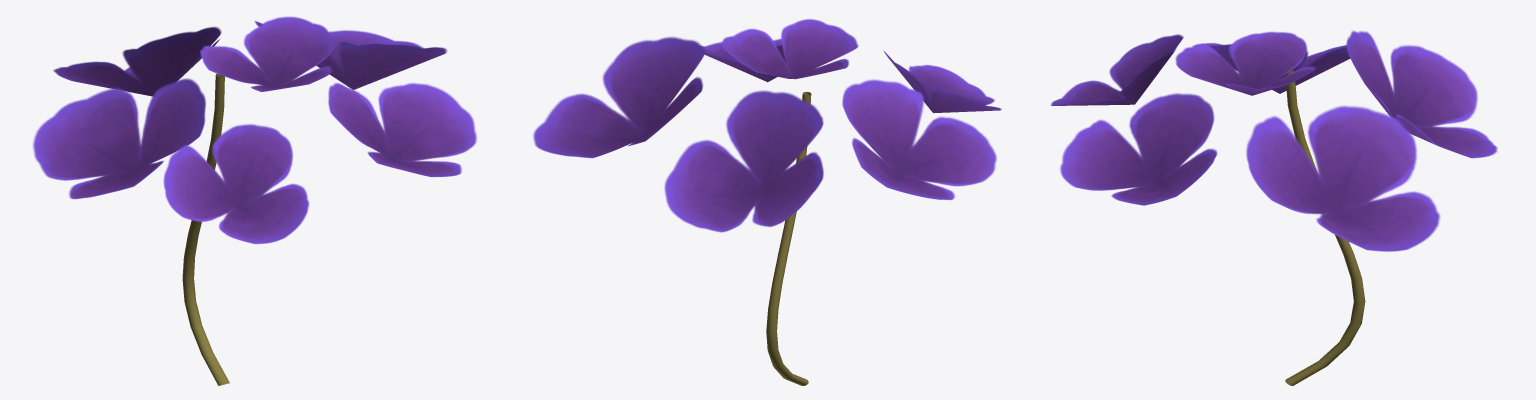
File: purple_flowers_with_stem_quaternius_fixed.glb
3 renders of one model, left to right at view 1: azimuth 30°, elevation 25°; view 2: azimuth 150°, elevation 25°; view 3: azimuth 270°, elevation 25°, orthographic. The views are drawn at different scales.
Parts seen in each view (by area): view 1: BézierCurve; view 2: BézierCurve; view 3: BézierCurve.
Part boxes in pixels (x1,y1,x2,y2): BézierCurve: (32,16,476,385); BézierCurve: (533,19,1001,385); BézierCurve: (1050,30,1497,385).
Size of the model in its own units: 1.05 by 0.7669 by 0.9621.
Materials: 2 (1 with a texture image).
